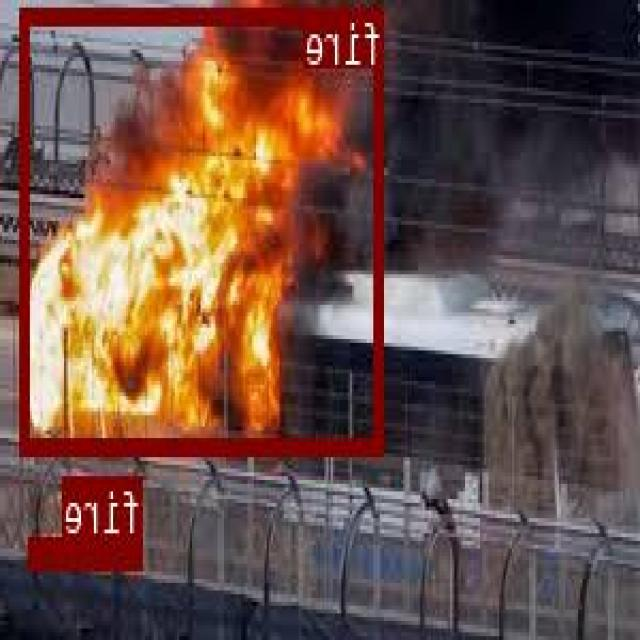fire: (23, 5, 386, 450), (32, 534, 144, 566)
